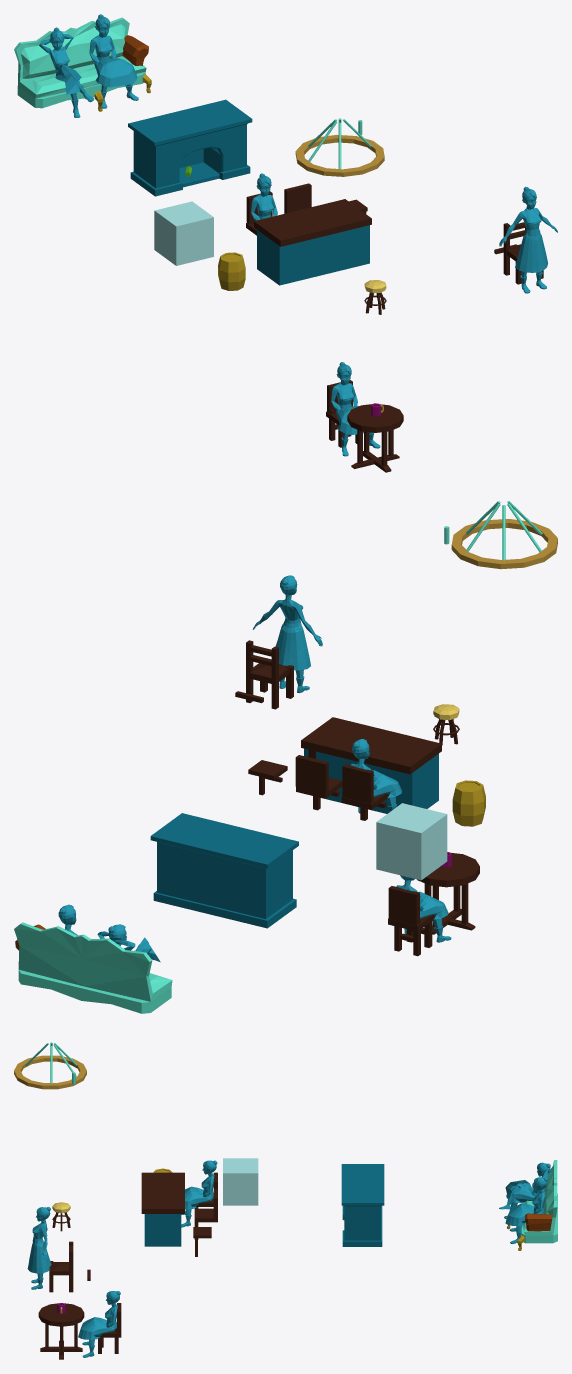
File: Background_test.obj
The picture shows the model from 3 angles, top to bottom: view 1: azimuth 30°, elevation 25°; view 2: azimuth 150°, elevation 25°; view 3: azimuth 270°, elevation 25°; orthographic projection. The views are drawn at different scales.
Visible parts, largest first — view 1: ??, ???_??001, ???_??, Box032, Box003, woman_commoner_1, woman_commoner_005, woman_commoner_004, Tube001, woman_commoner_003, Cylinder012, Box019 (+4 smaller); view 2: ??, ???_??001, Box032, Box003, woman_commoner_004, ???_??, woman_commoner_1, Box019, Tube001, Box031, oak_barrel_01, Cylinder012 (+2 smaller); view 3: ??, Box003, Box032, woman_commoner_004, ???_??001, ???_??, woman_commoner_1, Box019, Tube001, woman_commoner_005, woman_commoner_003, Cylinder012 (+2 smaller).
Part boxes in pixels (x1,y1,x2,y2): ??: (128, 99, 252, 196); ???_??001: (14, 17, 146, 108); ???_??: (257, 225, 369, 285); Box032: (154, 201, 213, 265); Box003: (254, 199, 371, 246); woman_commoner_1: (499, 186, 557, 293); woman_commoner_005: (89, 14, 138, 108); woman_commoner_004: (326, 362, 380, 456); Tube001: (295, 135, 384, 176); woman_commoner_003: (39, 27, 94, 117); Cylinder012: (347, 404, 403, 432); Box019: (246, 173, 277, 235); ??: (150, 813, 298, 928); ???_??001: (14, 922, 172, 1013); Box032: (376, 803, 447, 880); Box003: (301, 717, 441, 774); woman_commoner_004: (388, 875, 451, 956); ???_??: (304, 748, 438, 813); woman_commoner_1: (252, 575, 322, 693); Box019: (341, 739, 402, 820); Tube001: (451, 519, 557, 569); Box031: (235, 640, 293, 709); oak_barrel_01: (452, 780, 485, 826); Cylinder012: (417, 852, 479, 887); ??: (341, 1164, 384, 1246); Box003: (141, 1172, 184, 1213); Box032: (223, 1158, 258, 1205); woman_commoner_004: (78, 1291, 121, 1357); ???_??001: (521, 1160, 557, 1243); ???_??: (144, 1214, 181, 1246); woman_commoner_1: (27, 1207, 51, 1289); Box019: (181, 1160, 217, 1227); Tube001: (14, 1055, 86, 1089); woman_commoner_005: (505, 1177, 547, 1243); woman_commoner_003: (499, 1162, 550, 1218); Cylinder012: (38, 1303, 84, 1326).
Size of the model in its own units: 208 by 260 by 442.
